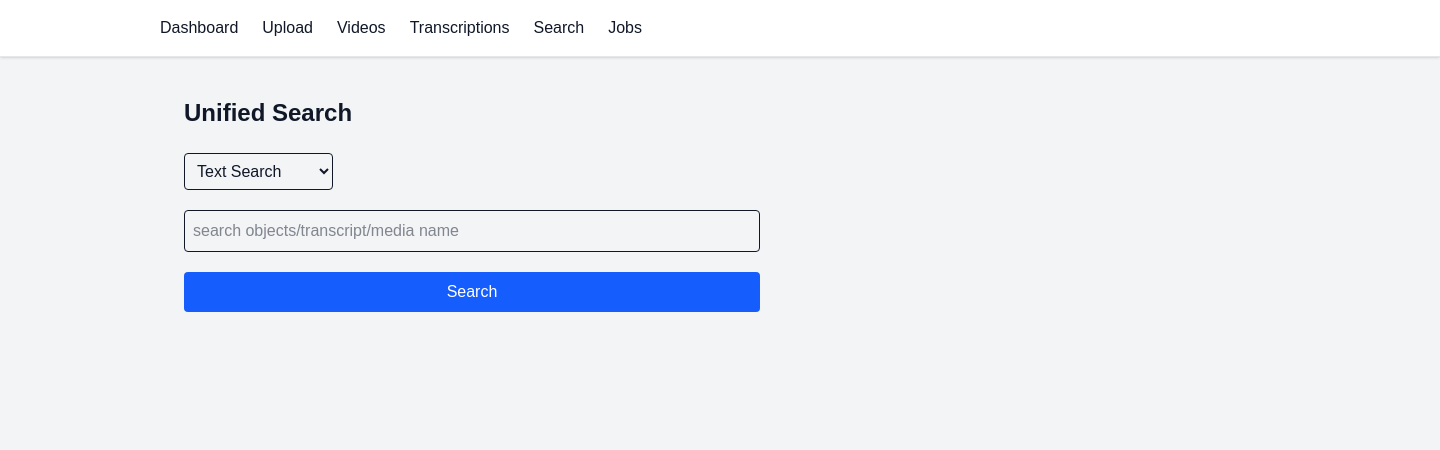
Test: search returns a video result with filename + score
// Updated placeholder text
Type "car" into the field with placeholder "search objects/transcript/media name" at (472, 231), box [184,210,760,252]
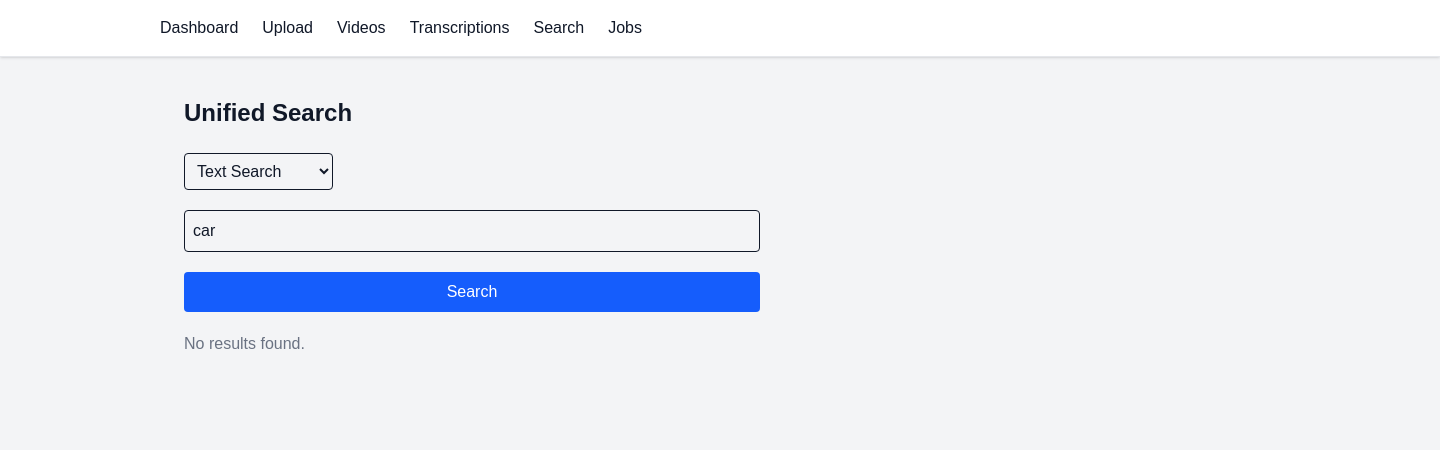
Click the button "Search" at (472, 292), box [184,272,760,312]
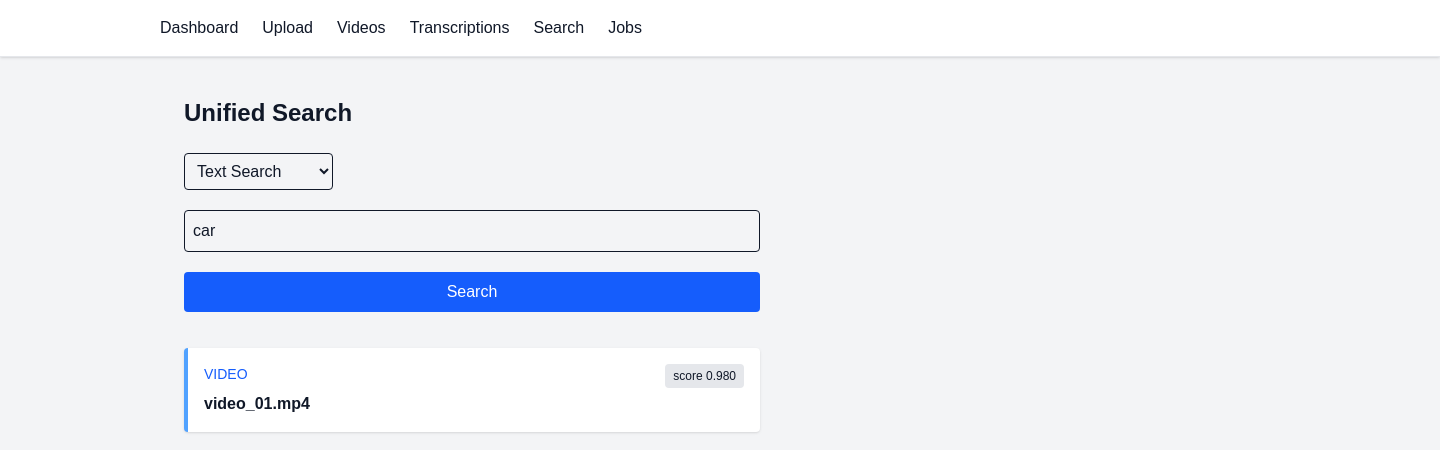
expect the text "video_01.mp4" is shown: met, box [204,395,310,412]
expect the text "VIDEO" is shown: met, box [204,364,248,388]
expect the text "score 0.980" is shown: met, box [665,364,744,388]
